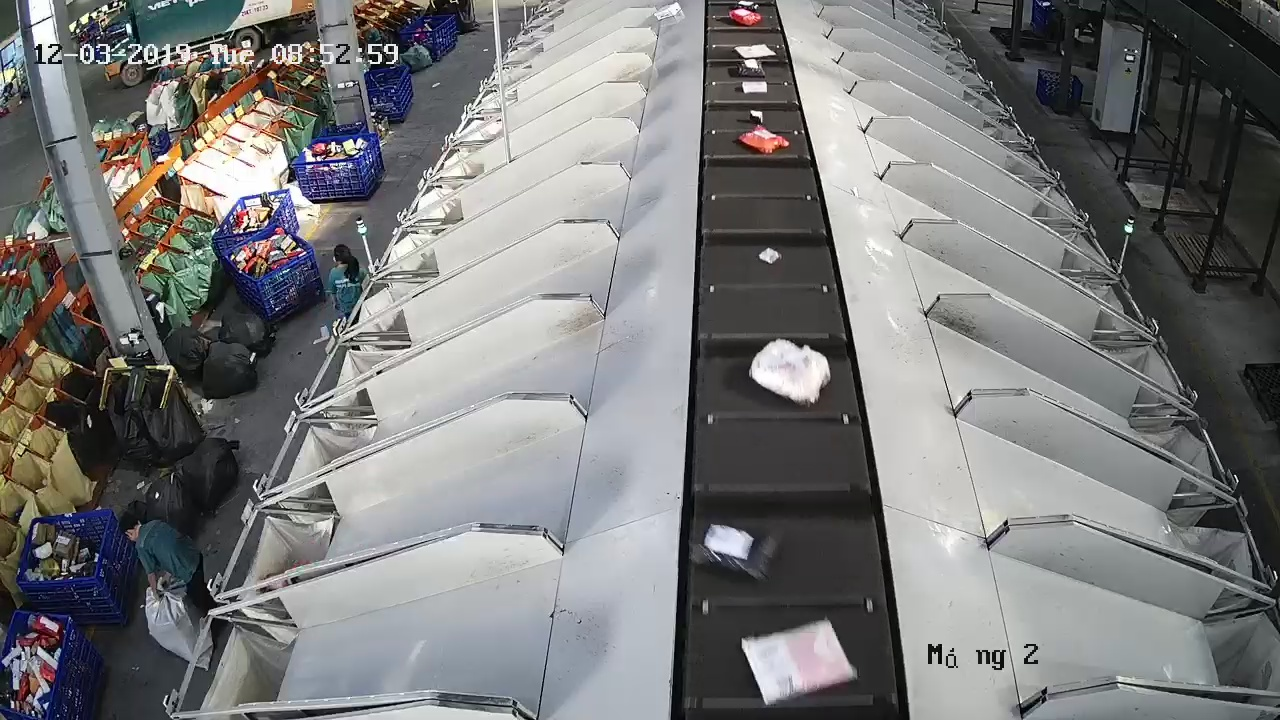parcel: (739, 616, 860, 708), (746, 337, 833, 409), (691, 520, 780, 585), (736, 124, 792, 155), (756, 243, 783, 265), (749, 108, 765, 124)
